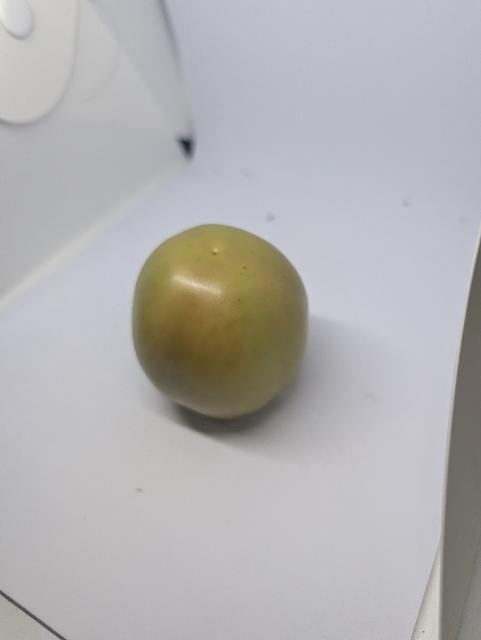breaker: (131, 220, 316, 425)
